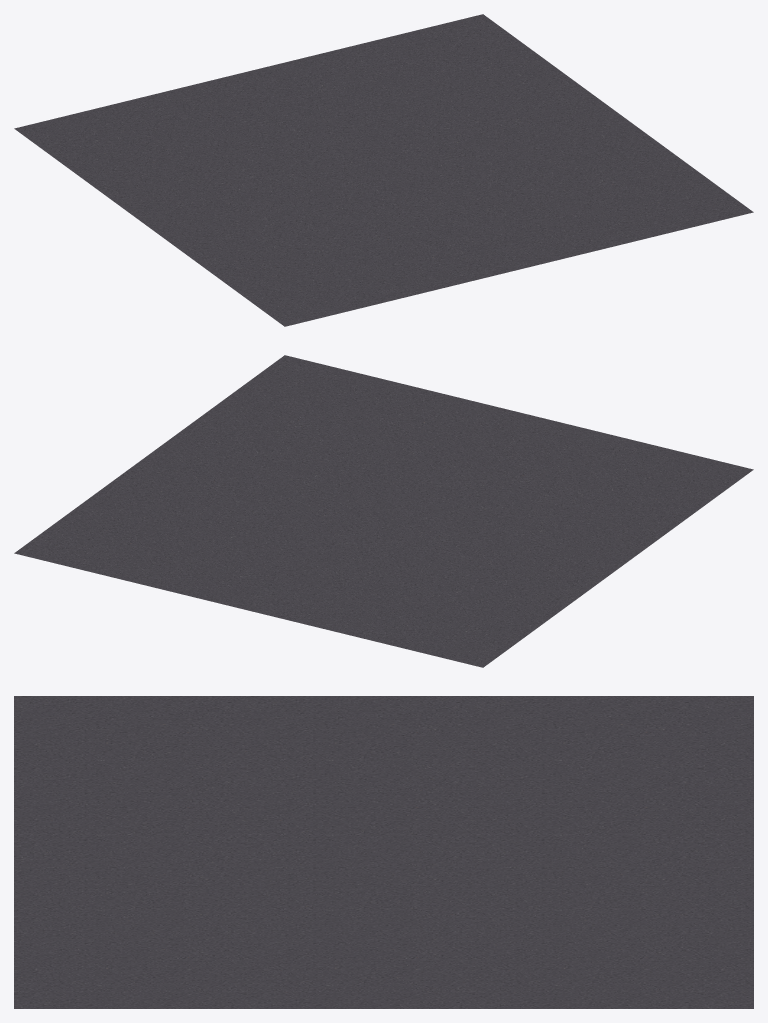
Rendered from SueloRestaurantes.fbx.
3 renders of one model, top to bottom at view 1: azimuth 30°, elevation 25°; view 2: azimuth 150°, elevation 25°; view 3: azimuth 270°, elevation 25°, orthographic. The views are drawn at different scales.
Parts seen in each view (by area): view 1: Asfalto.003; view 2: Asfalto.003; view 3: Asfalto.003.
Boxes of the visible parts, x1=… form: Asfalto.003: x1=14, y1=14, x2=753, y2=326; Asfalto.003: x1=14, y1=355, x2=753, y2=667; Asfalto.003: x1=14, y1=696, x2=753, y2=1008.
Bounding box in the file's own units: 4418 × 0.00125 × 4418.
